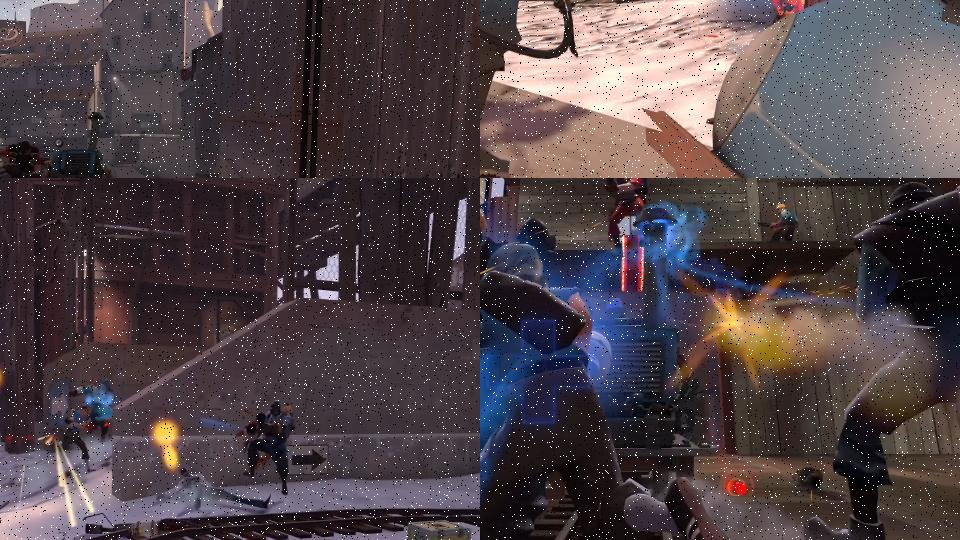Enemy: (480, 237, 742, 540), (800, 178, 960, 540), (480, 203, 612, 540), (480, 0, 675, 178), (157, 467, 271, 512), (243, 401, 296, 496), (603, 178, 651, 258), (48, 406, 97, 473), (68, 376, 113, 441), (0, 140, 46, 178), (756, 203, 799, 242), (771, 0, 806, 28)
